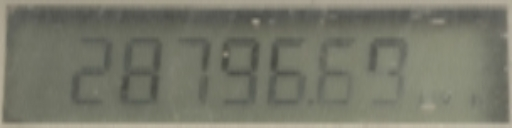2: (61, 31, 118, 110)
5: (316, 34, 361, 111)
6: (264, 29, 310, 106)
7: (169, 24, 215, 119)
8: (118, 33, 167, 111)
9: (362, 28, 413, 111), (216, 31, 262, 114)
d: (305, 93, 317, 109)
